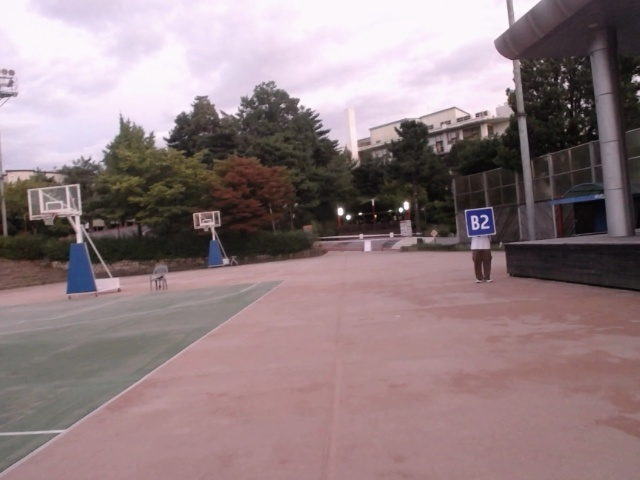delivery_b2: (464, 207, 496, 237)
